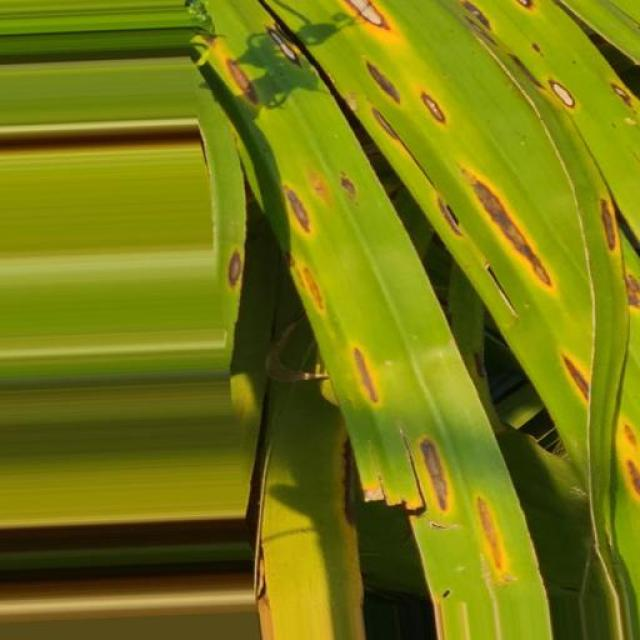Early_rust: (147, 0, 640, 618)
